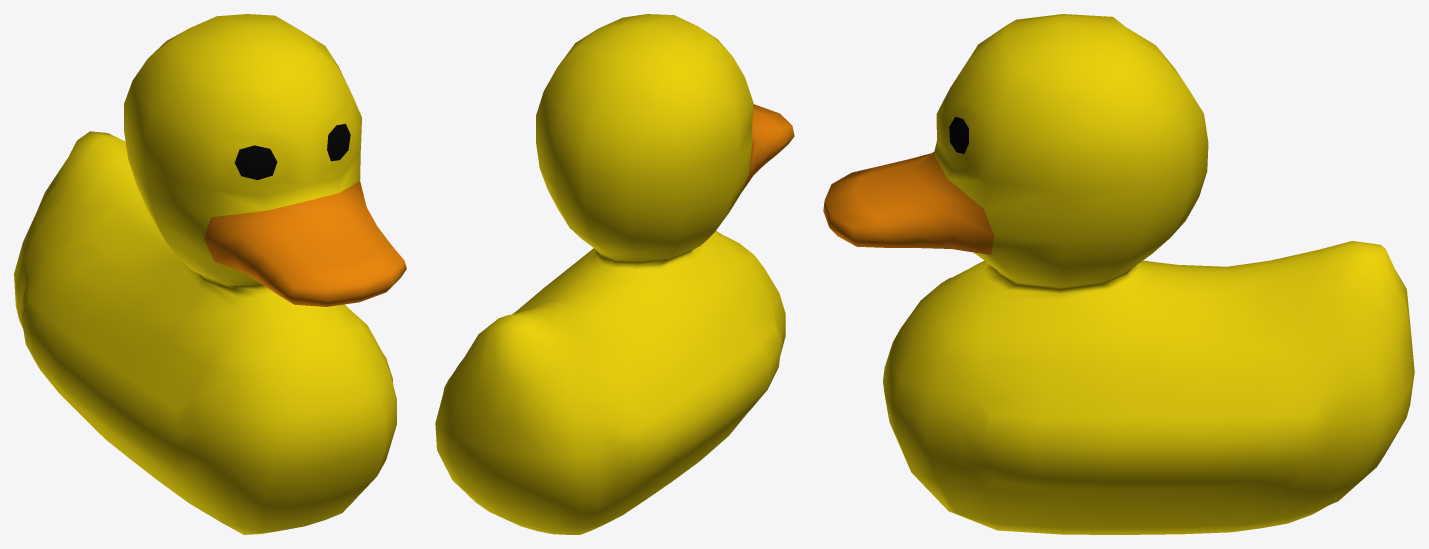
The model's file is Pato_A01.fbx.
The picture shows the model from 3 angles, left to right: view 1: azimuth 30°, elevation 25°; view 2: azimuth 150°, elevation 25°; view 3: azimuth 270°, elevation 25°; orthographic projection. The views are drawn at different scales.
Visible parts, largest first — view 1: Cube; view 2: Cube; view 3: Cube.
Part boxes in pixels (<box>): Cube: <box>14,14,406,534</box>; Cube: <box>435,14,794,534</box>; Cube: <box>823,14,1414,534</box>.
Size of the model in its own units: 0.033 by 0.0668 by 0.0619.
